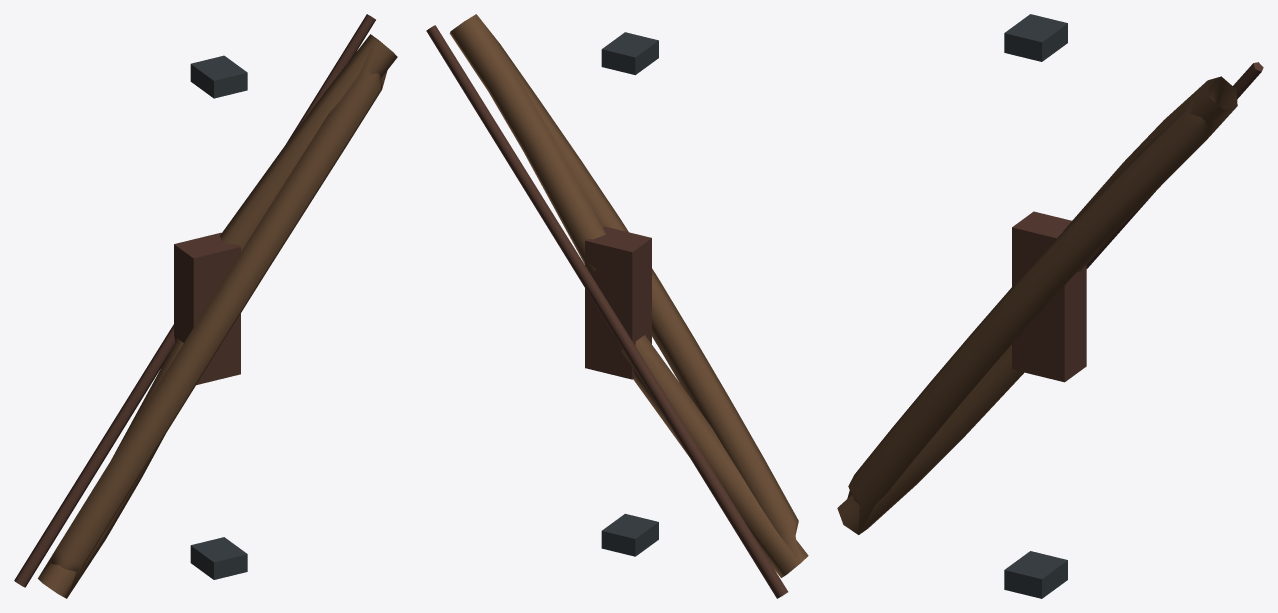
Rendered from shortbow.glb.
3 views of the same model, side by side, from view 1: azimuth 30°, elevation 25°; view 2: azimuth 150°, elevation 25°; view 3: azimuth 330°, elevation 25° (orthographic). The views are drawn at different scales.
Parts seen in each view (by area): view 1: shortbow-limb, shortbow-grip-wrap, shortbow-string, shortbow-upper-nock, shortbow-lower-nock; view 2: shortbow-limb, shortbow-string, shortbow-grip-wrap, shortbow-upper-nock, shortbow-lower-nock; view 3: shortbow-limb, shortbow-grip-wrap, shortbow-lower-nock, shortbow-upper-nock, shortbow-string.
Part boxes in pixels (x1=…): shortbow-limb: x1=38, y1=34, x2=397, y2=598; shortbow-grip-wrap: x1=174, y1=232, x2=240, y2=384; shortbow-string: x1=14, y1=14, x2=375, y2=587; shortbow-upper-nock: x1=190, y1=55, x2=247, y2=98; shortbow-lower-nock: x1=190, y1=537, x2=247, y2=579; shortbow-limb: x1=449, y1=14, x2=808, y2=577; shortbow-string: x1=426, y1=25, x2=788, y2=598; shortbow-grip-wrap: x1=585, y1=226, x2=651, y2=379; shortbow-upper-nock: x1=601, y1=32, x2=658, y2=75; shortbow-lower-nock: x1=601, y1=513, x2=658, y2=556; shortbow-limb: x1=837, y1=76, x2=1237, y2=534; shortbow-grip-wrap: x1=1012, y1=211, x2=1086, y2=382; shortbow-lower-nock: x1=1004, y1=551, x2=1067, y2=598; shortbow-upper-nock: x1=1004, y1=14, x2=1067, y2=61; shortbow-string: x1=1086, y1=62, x2=1263, y2=268.
Size of the model in its own units: 0.5324 by 0.705 by 0.1043.
